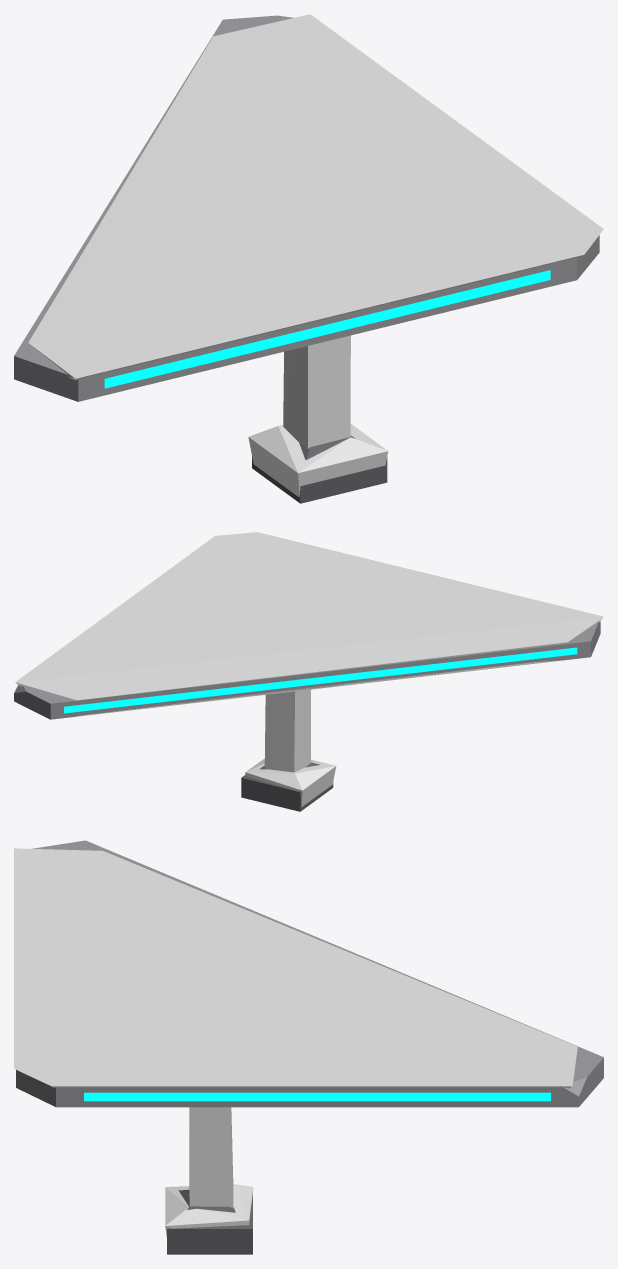
Rendered from SM_Prop_CornerTable_01.fbx.
The picture shows the model from 3 angles, top to bottom: view 1: azimuth 30°, elevation 25°; view 2: azimuth 150°, elevation 25°; view 3: azimuth 270°, elevation 25°; orthographic projection. The views are drawn at different scales.
Parts seen in each view (by area): view 1: SM_Prop_CornerTable_01_ConvexHulls, SM_Prop_CornerTable_01_LOD0; view 2: SM_Prop_CornerTable_01_ConvexHulls, SM_Prop_CornerTable_01_LOD0; view 3: SM_Prop_CornerTable_01_ConvexHulls, SM_Prop_CornerTable_01_LOD0.
Boxes of the visible parts, bbox=[...] form: SM_Prop_CornerTable_01_ConvexHulls: bbox=[28, 14, 603, 497]; SM_Prop_CornerTable_01_LOD0: bbox=[14, 15, 599, 503]; SM_Prop_CornerTable_01_ConvexHulls: bbox=[15, 532, 603, 807]; SM_Prop_CornerTable_01_LOD0: bbox=[14, 621, 600, 811]; SM_Prop_CornerTable_01_ConvexHulls: bbox=[14, 848, 577, 1236]; SM_Prop_CornerTable_01_LOD0: bbox=[16, 840, 603, 1254].
Size of the model in its own units: 218 by 216 by 95.42.
Materials: 1 (1 with a texture image).
